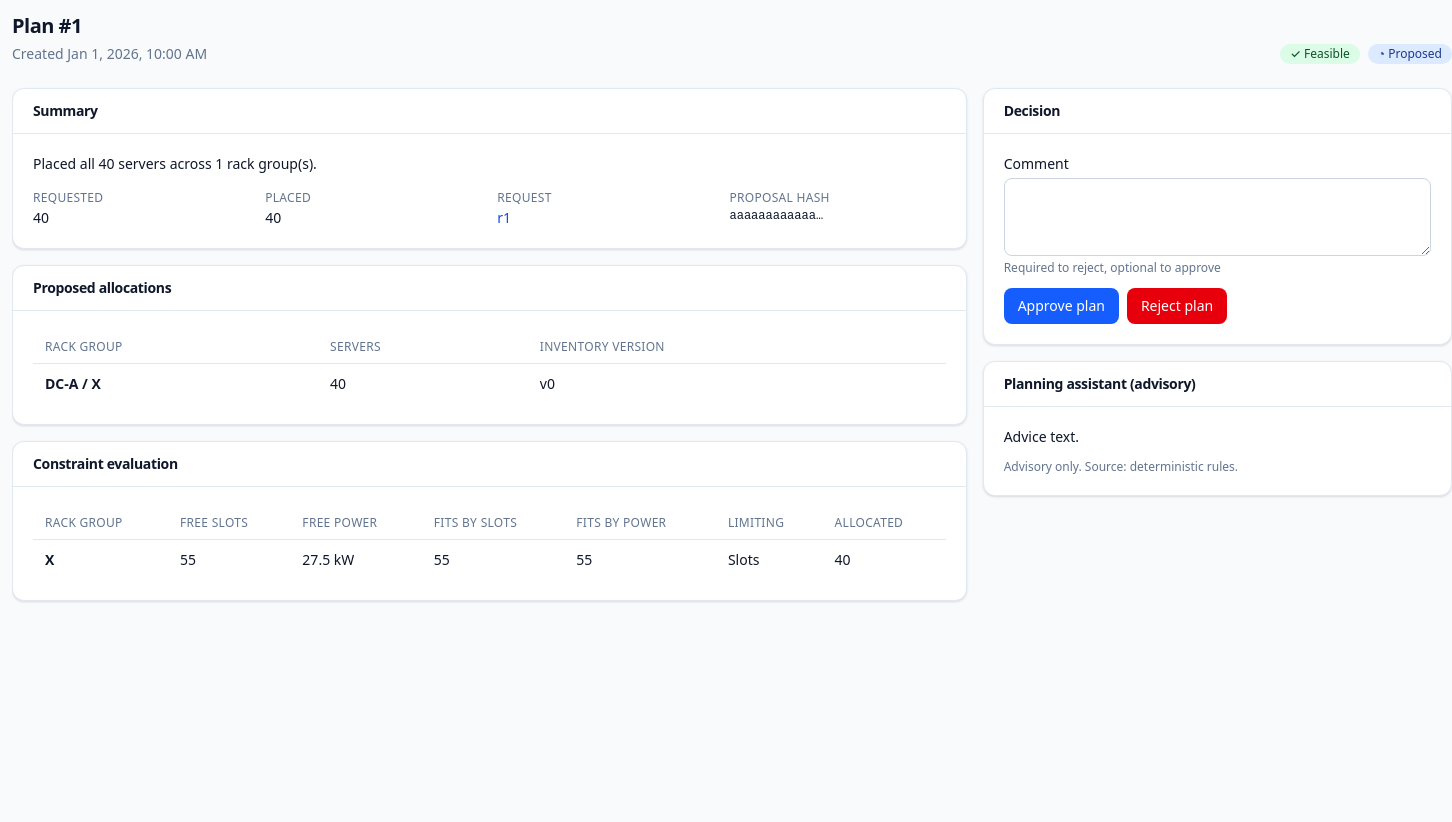
Test: PlanDetailPage › lets a different reviewer approve a feasible proposed plan, binding the content hash
The width and height of the screenshot is (1452, 822).
Click the button "Approve plan".
click(1061, 306)  # box [1004,288,1119,324]
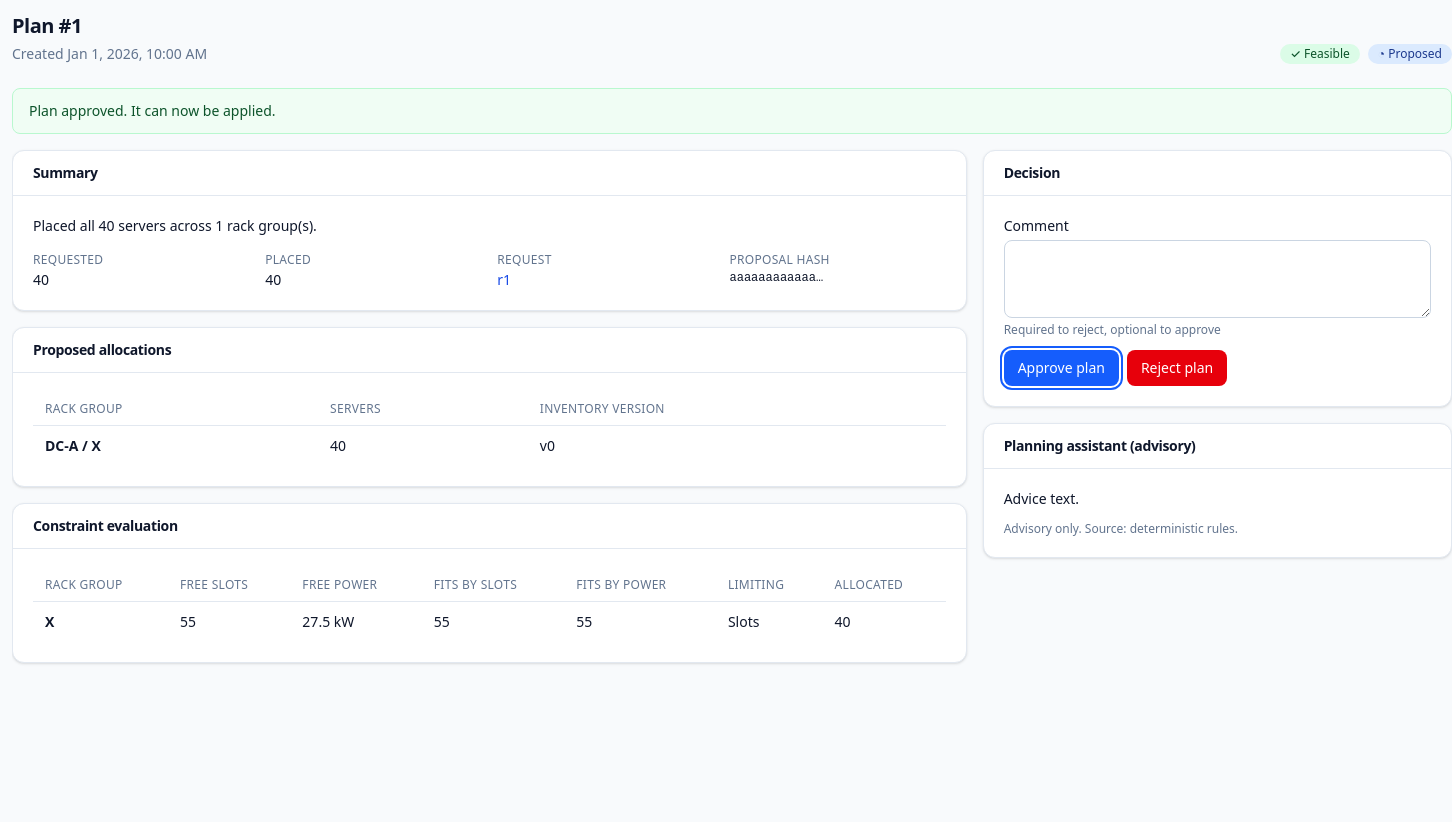
Expected: the text "Plan approved. It can now be applied." is shown, [12,88,1451,134]
